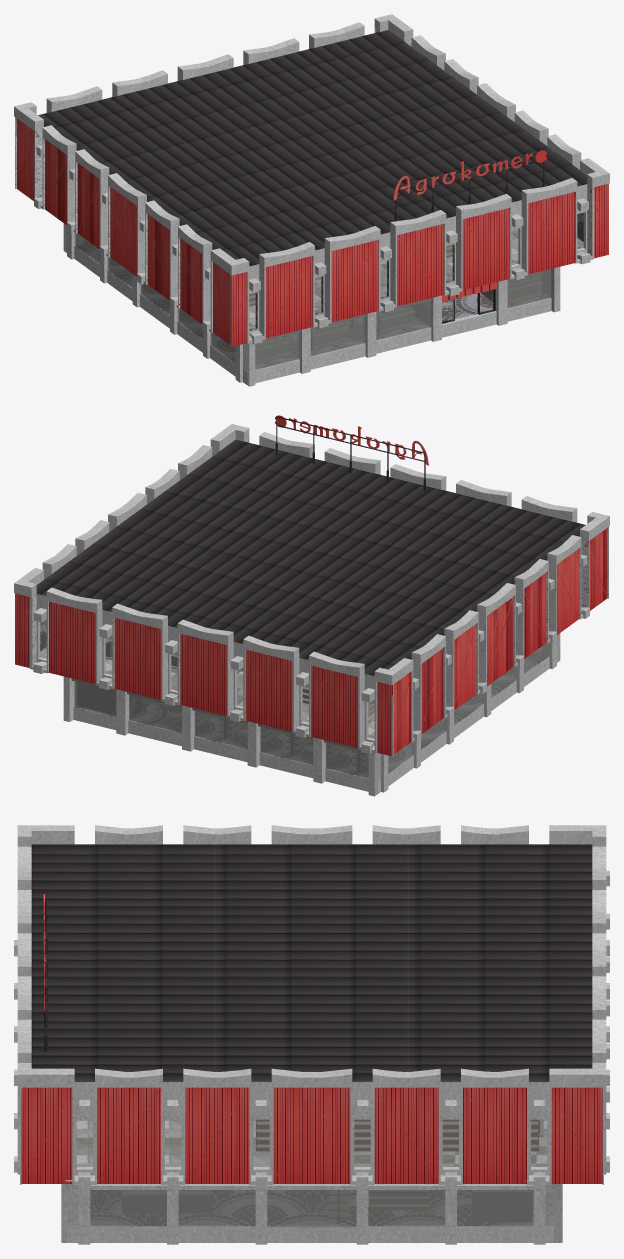
File: AgrokomercDepartmentStore.fbx
The picture shows the model from 3 angles, top to bottom: view 1: azimuth 30°, elevation 25°; view 2: azimuth 150°, elevation 25°; view 3: azimuth 270°, elevation 25°; orthographic projection. The views are drawn at different scales.
Parts seen in each view (by area): view 1: Agrokomerc_Body; view 2: Agrokomerc_Body; view 3: Agrokomerc_Body.
Boxes of the visible parts, x1,y1,x2,y2 form: Agrokomerc_Body: (14, 14, 609, 386); Agrokomerc_Body: (14, 415, 609, 796); Agrokomerc_Body: (14, 825, 609, 1244).
Size of the model in its own units: 34.94 by 15.63 by 34.86.
Materials: 9 (8 with a texture image).
